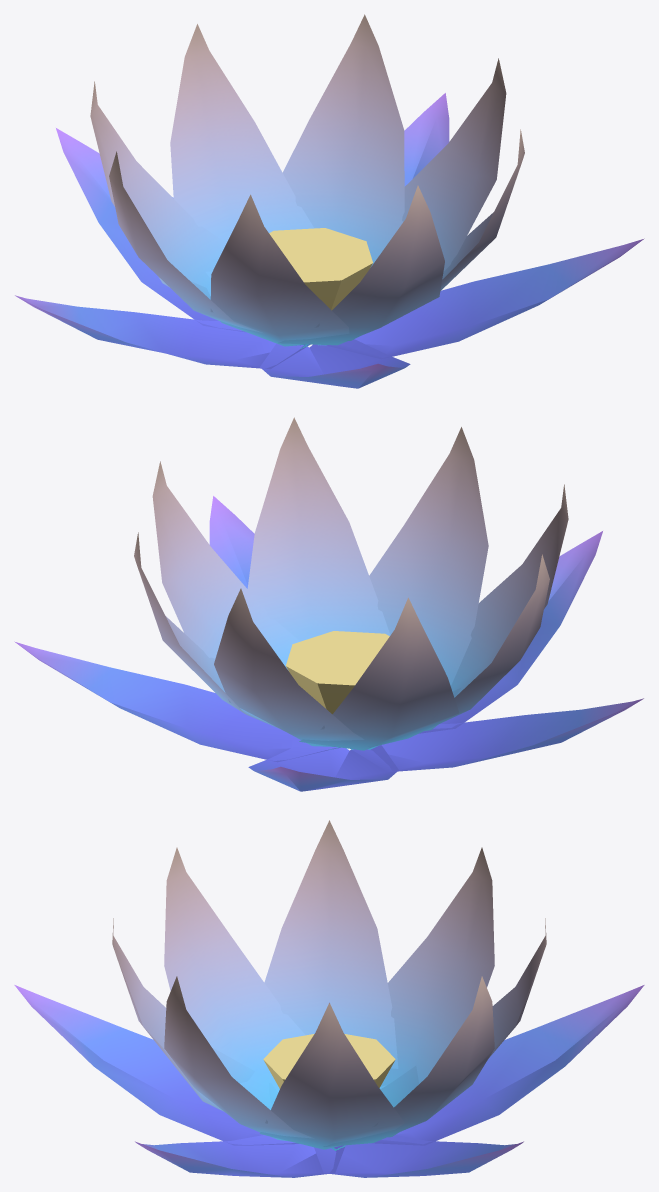
Rendered from lotus.fbx.
3 views of the same model, one above another, from view 1: azimuth 30°, elevation 25°; view 2: azimuth 150°, elevation 25°; view 3: azimuth 270°, elevation 25° (orthographic). The views are drawn at different scales.
Visible parts, largest first — view 1: Cube.002.frozen; view 2: Cube.002.frozen; view 3: Cube.002.frozen.
Boxes of the visible parts, <box> form: Cube.002.frozen: <box>15,14,644,388</box>; Cube.002.frozen: <box>14,417,643,791</box>; Cube.002.frozen: <box>14,820,644,1177</box>.
Bounding box in the file's own units: 372 × 161 × 392.
Materials: 1 (1 with a texture image).
